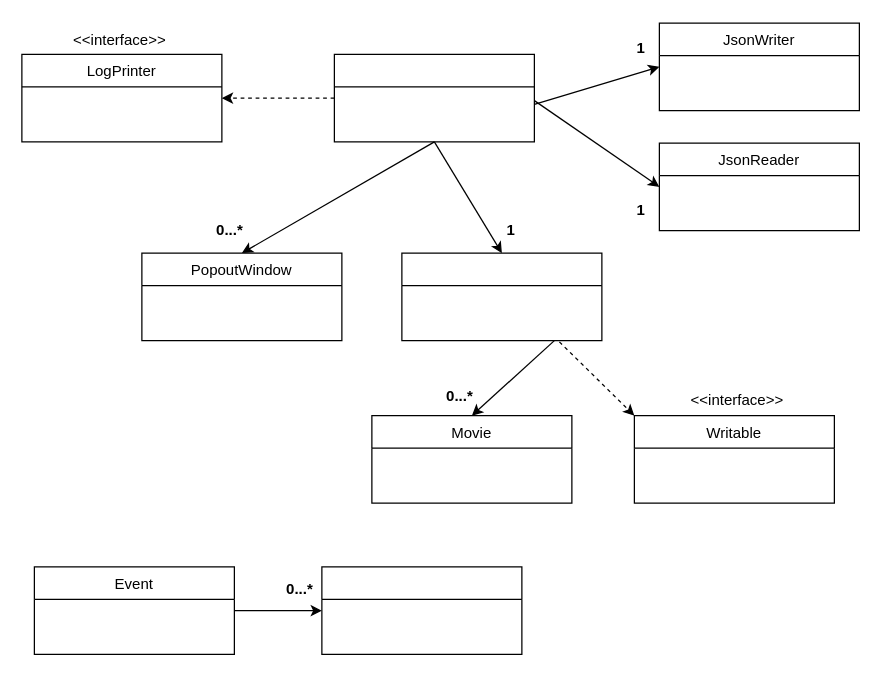
Image size: 881x676. Some labels were removed from this diagram. Each missing label, with the centre of its shape:
"EventLog" belongs at pixel 421 610.
"MovieList" belongs at pixel 501 296.
"MovieListGUI" belongs at pixel 433 97.
